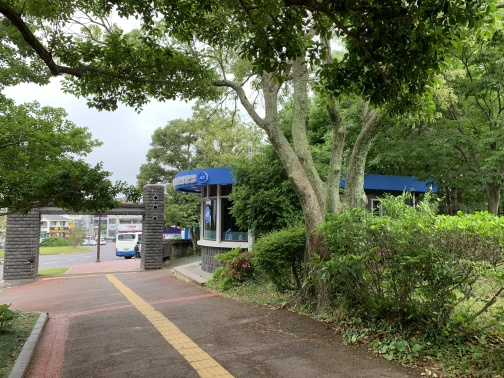Security Office: (171, 164, 253, 272)
